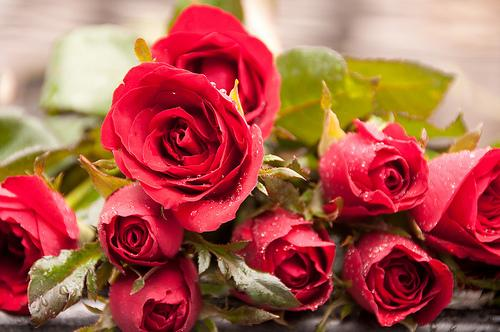Rose: (105, 58, 265, 226), (131, 9, 305, 128), (237, 188, 340, 316), (330, 104, 433, 222), (2, 169, 80, 323), (348, 222, 456, 331), (89, 180, 184, 269), (430, 139, 500, 246), (105, 256, 203, 332)
